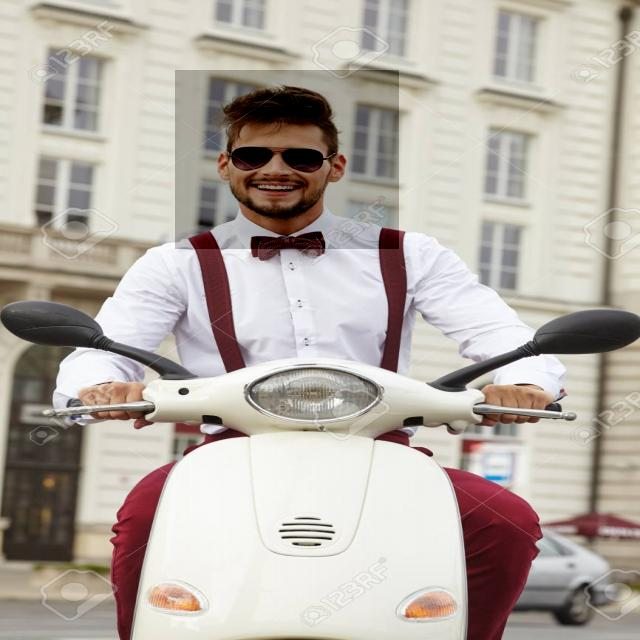No_Helmet: (175, 70, 399, 249)
